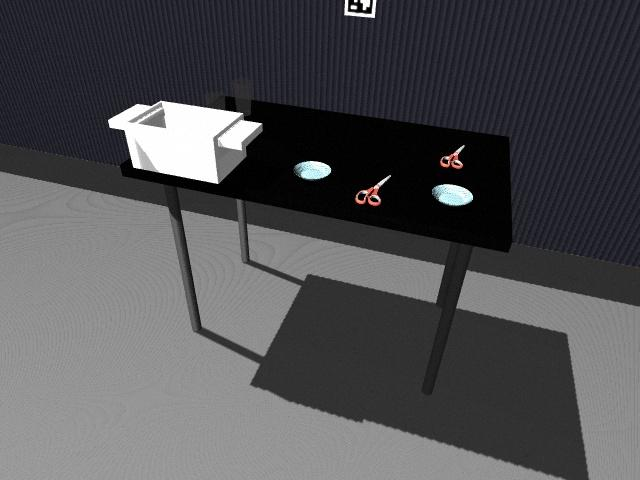cup: (230, 80, 254, 116), (224, 95, 237, 113)
plate: (431, 183, 474, 207), (292, 160, 332, 181)
scissors: (355, 173, 390, 206), (438, 144, 464, 169)
